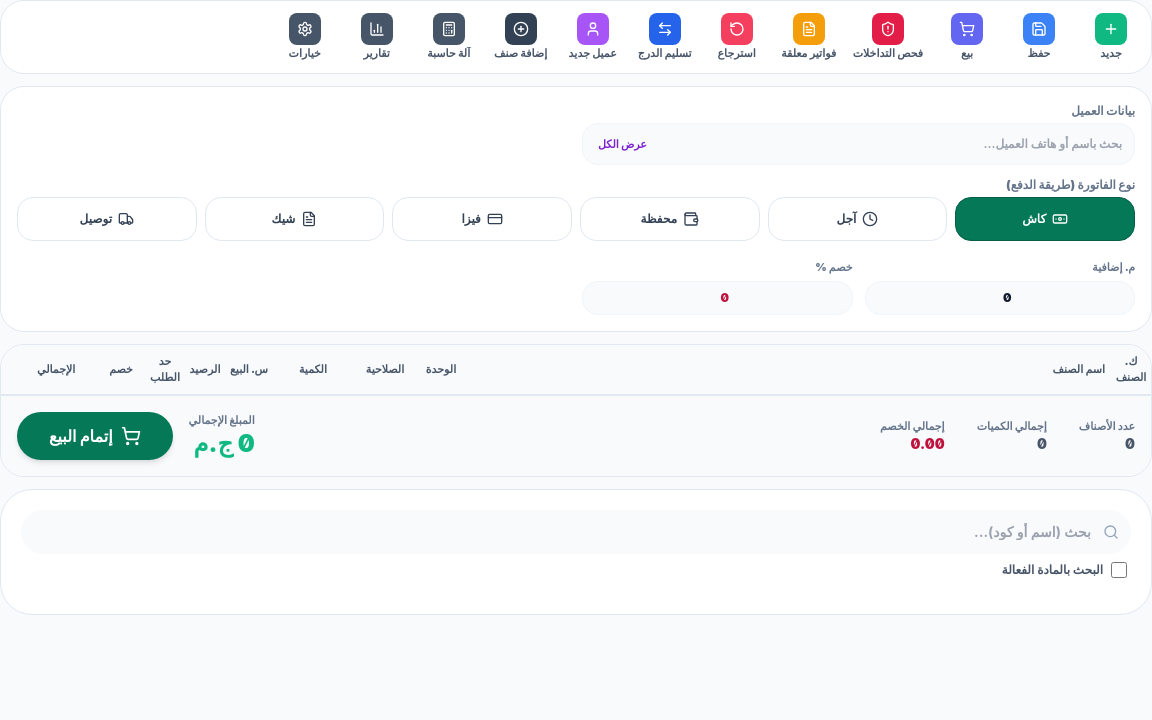
Test: coverage-gap: POS keyboard shortcuts › keeps POS drug search results owned by the newest query when an older request resolves later
Type "old" into the field with placeholder "بحث (اسم أو كود)..." at point(576, 532), box [21, 510, 1131, 554]
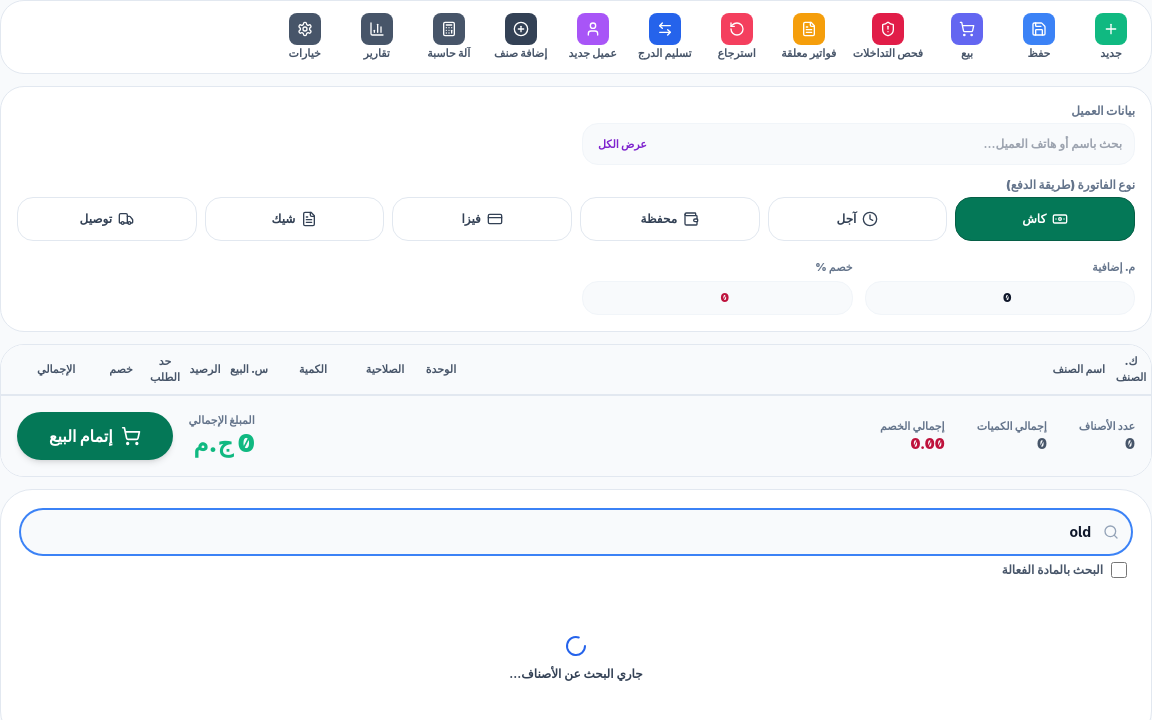
Replace the text in the field with placeholder "بحث (اسم أو كود)..." with "new" at point(576, 532), box [21, 510, 1131, 554]
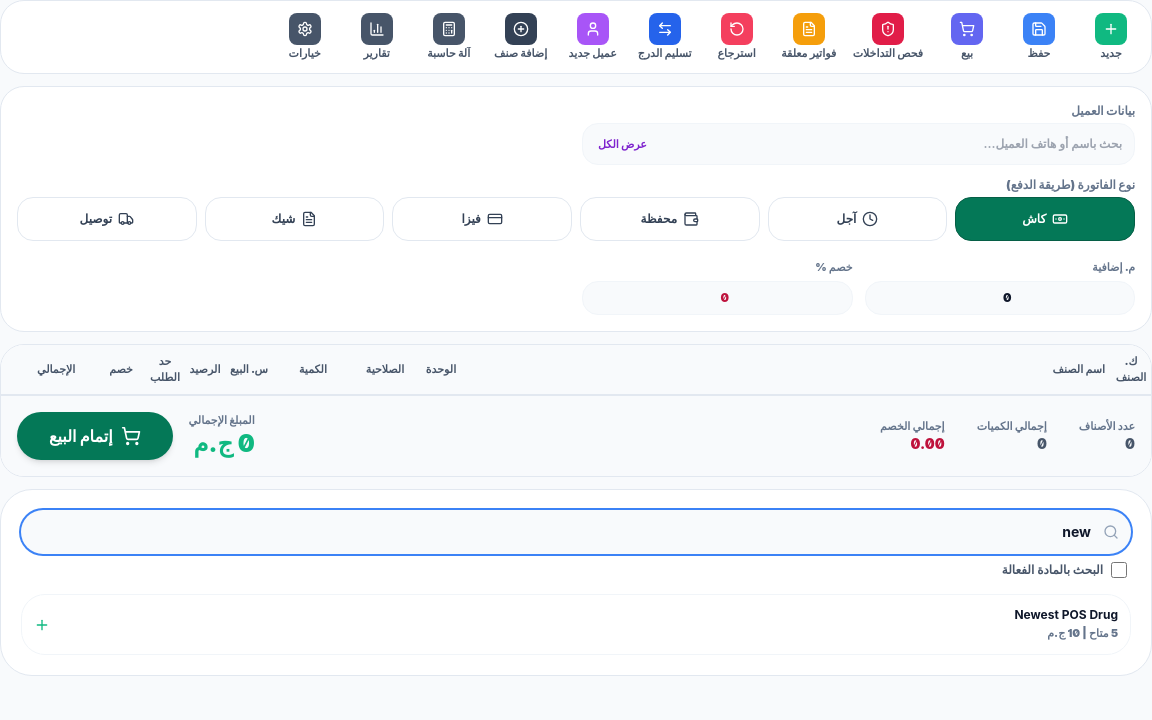
Expected: the text "Newest POS Drug" is shown, [1014, 607, 1118, 622]
